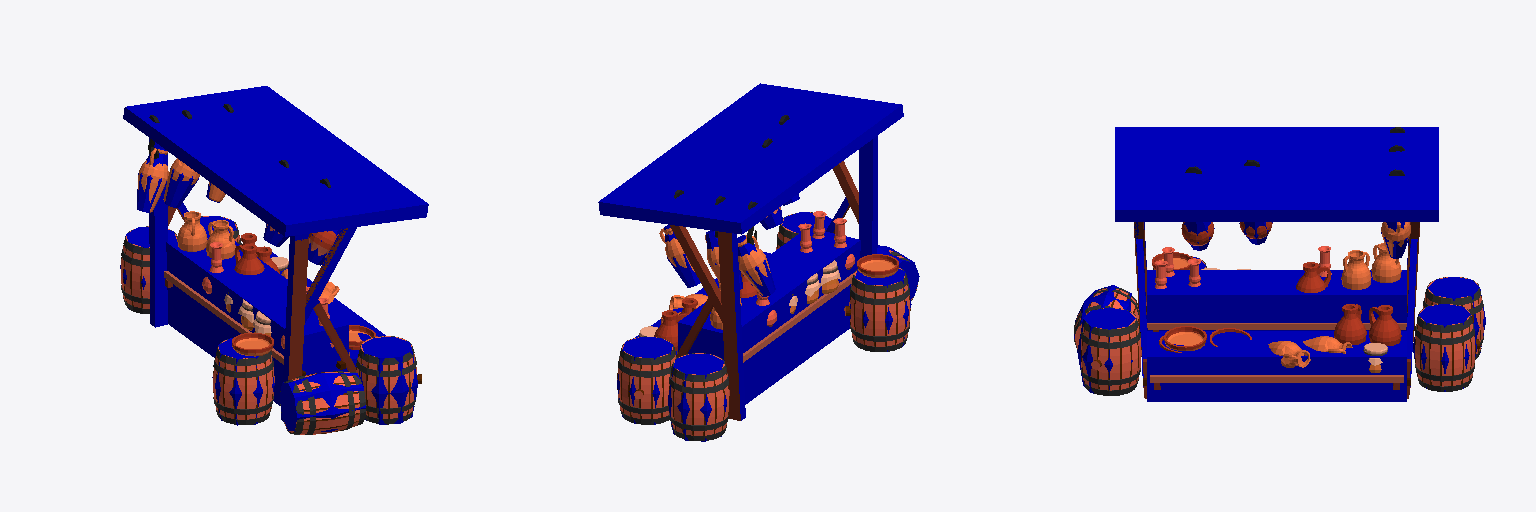
3 views of the same model, side by side, from view 1: azimuth 30°, elevation 25°; view 2: azimuth 150°, elevation 25°; view 3: azimuth 270°, elevation 25° (orthographic).
Parts seen in each view (by area): view 1: Cube.062_Cube.150, Cylinder.054; view 2: Cube.062_Cube.150, Cylinder.054; view 3: Cube.062_Cube.150, Cylinder.054.
Boxes of the visible parts, <box> form: Cube.062_Cube.150: <box>120,86,428,431</box>; Cylinder.054: <box>121,104,421,434</box>; Cube.062_Cube.150: <box>598,83,919,441</box>; Cylinder.054: <box>617,115,918,440</box>; Cube.062_Cube.150: <box>1074,127,1485,401</box>; Cylinder.054: <box>1074,127,1483,398</box>.
Size of the model in its own units: 1.29 by 1.46 by 2.55.
2 materials, 1 textured.